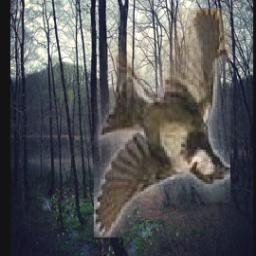Sparrow: (94, 9, 230, 239)
